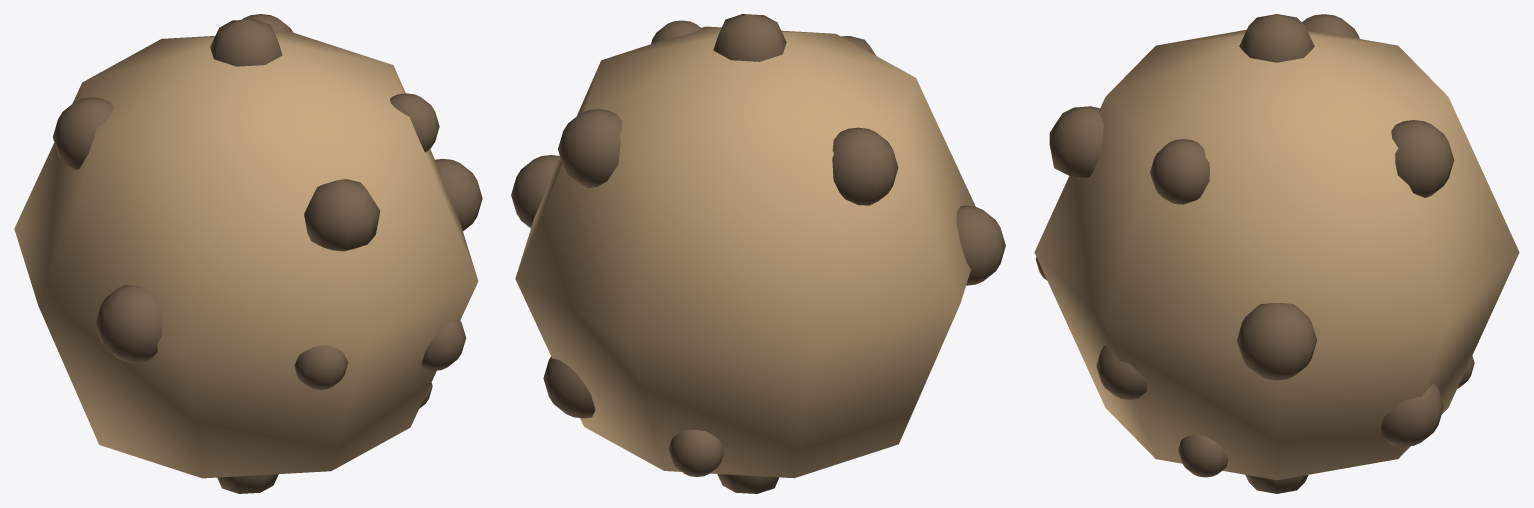
File: dirt.fbx
3 views of the same model, side by side, from view 1: azimuth 30°, elevation 25°; view 2: azimuth 150°, elevation 25°; view 3: azimuth 270°, elevation 25° (orthographic).
Parts seen in each view (by area): view 1: Sphere008; view 2: Sphere008; view 3: Sphere008.
Boxes of the visible parts, x1,y1,x2,y2 form: Sphere008: (14, 14, 482, 493); Sphere008: (511, 14, 1005, 493); Sphere008: (1034, 14, 1519, 493).
Size of the model in its own units: 46.93 by 48.29 by 44.48.
